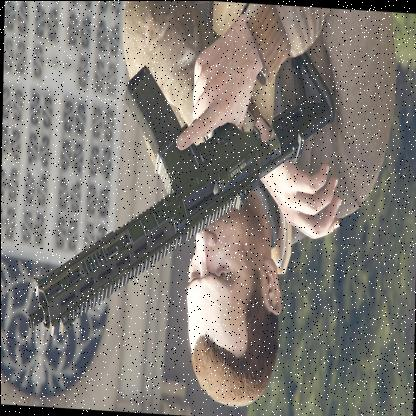rifle: (18, 30, 342, 362)
